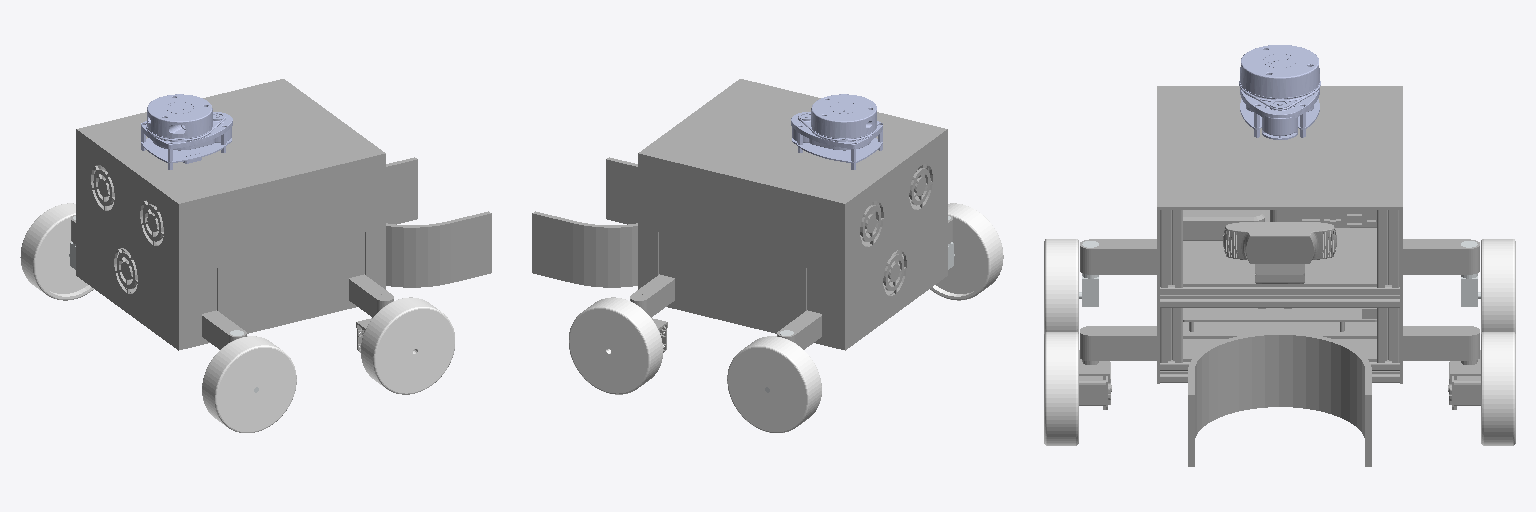
URDF robot description (cw7):
<?xml version="1.0" encoding="utf-8"?>
<!-- This URDF was automatically created by SolidWorks to URDF Exporter! Originally created by [author] ([email redacted]) 
     Commit Version: 1.5.1-0-g916b5db  Build Version: 1.5.7152.31018
     For more information, please see http://wiki.ros.org/sw_urdf_exporter -->
<robot
  name="cw7">
  <link
    name="Base">
    <inertial>
      <origin
        xyz="-0.143651511857374 0.108895459398045 0.0812772540077323"
        rpy="0 0 0" />
      <mass
        value="5.26325366509137" />
      <inertia
        ixx="0.0148943720049105"
        ixy="-1.47975198134271E-06"
        ixz="-8.31653282119483E-06"
        iyy="0.0219350627580291"
        iyz="-4.01751561824985E-06"
        izz="0.0231941861217009" />
    </inertial>
    <visual>
      <origin
        xyz="0 0 0"
        rpy="0 0 0" />
      <geometry>
        <mesh
          filename="package://cw7/meshes/Base.STL" />
      </geometry>
      <material
        name="">
        <color
          rgba="0.752941176470588 0.752941176470588 0.752941176470588 1" />
      </material>
    </visual>
    <collision>
      <origin
        xyz="0 0 0"
        rpy="0 0 0" />
      <geometry>
        <mesh
          filename="package://cw7/meshes/Base.STL" />
      </geometry>
    </collision>
  </link>
  <link
    name="LFS">
    <inertial>
      <origin
        xyz="0.0666875210853818 0.00364278355332759 -0.0648369138582873"
        rpy="0 0 0" />
      <mass
        value="0.26437001106024" />
      <inertia
        ixx="3.20746276473134E-05"
        ixy="-1.44118283521323E-07"
        ixz="-6.30853084344804E-08"
        iyy="6.22704126338856E-05"
        iyz="-2.01894652764193E-07"
        izz="6.28519936954001E-05" />
    </inertial>
    <visual>
      <origin
        xyz="0 0 0"
        rpy="0 0 0" />
      <geometry>
        <mesh
          filename="package://cw7/meshes/LFS.STL" />
      </geometry>
      <material
        name="">
        <color
          rgba="0.752941176470588 0.752941176470588 0.752941176470588 1" />
      </material>
    </visual>
    <collision>
      <origin
        xyz="0 0 0"
        rpy="0 0 0" />
      <geometry>
        <mesh
          filename="package://cw7/meshes/LFS.STL" />
      </geometry>
    </collision>
  </link>
  <joint
    name="LFS"
    type="prismatic">
    <origin
      xyz="-0.050812 0.31516 -0.047207"
      rpy="2.834 0 -1.5708" />
    <parent
      link="Base" />
    <child
      link="LFS" />
    <axis
      xyz="0 0.3028 -0.95305" />
    <limit
      lower="0"
      upper="0"
      effort="0"
      velocity="0" />
  </joint>
  <link
    name="LFW">
    <inertial>
      <origin
        xyz="-0.012315724574073 -1.38777878078145E-17 0"
        rpy="0 0 0" />
      <mass
        value="0.193585420779862" />
      <inertia
        ixx="0.000253081141332254"
        ixy="-5.88092833198904E-37"
        ixz="5.1845054750851E-21"
        iyy="0.000136818598566517"
        iyz="7.17557753438369E-37"
        izz="0.000136818598566517" />
    </inertial>
    <visual>
      <origin
        xyz="0 0 0"
        rpy="0 0 0" />
      <geometry>
        <mesh
          filename="package://cw7/meshes/LFW.STL" />
      </geometry>
      <material
        name="">
        <color
          rgba="1 1 1 1" />
      </material>
    </visual>
    <collision>
      <origin
        xyz="0 0 0"
        rpy="0 0 0" />
      <geometry>
        <mesh
          filename="package://cw7/meshes/LFW.STL" />
      </geometry>
    </collision>
  </link>
  <joint
    name="LFW"
    type="continuous">
    <origin
      xyz="0.00041099 -0.018219 -0.039786"
      rpy="-1.8784 0 3.1416" />
    <parent
      link="LFS" />
    <child
      link="LFW" />
    <axis
      xyz="1 0 0" />
    <limit
      effort="3.1"
      velocity="7" />
  </joint>
  <link
    name="RFS">
    <inertial>
      <origin
        xyz="0.0724473276378504 -0.00242306558271344 -0.0667549990091164"
        rpy="0 0 0" />
      <mass
        value="0.26437001106024" />
      <inertia
        ixx="3.20746276473134E-05"
        ixy="1.4411828352133E-07"
        ixz="6.30853084344786E-08"
        iyy="6.22704126338856E-05"
        iyz="-2.01894652764197E-07"
        izz="6.28519936954002E-05" />
    </inertial>
    <visual>
      <origin
        xyz="0 0 0"
        rpy="0 0 0" />
      <geometry>
        <mesh
          filename="package://cw7/meshes/RFS.STL" />
      </geometry>
      <material
        name="">
        <color
          rgba="0.752941176470588 0.752941176470588 0.752941176470588 1" />
      </material>
    </visual>
    <collision>
      <origin
        xyz="0 0 0"
        rpy="0 0 0" />
      <geometry>
        <mesh
          filename="package://cw7/meshes/RFS.STL" />
      </geometry>
    </collision>
  </link>
  <joint
    name="RFS"
    type="prismatic">
    <origin
      xyz="-0.012128 -0.10492 -0.047207"
      rpy="2.834 0 1.5708" />
    <parent
      link="Base" />
    <child
      link="RFS" />
    <axis
      xyz="0 0.3028 -0.95305" />
    <limit
      lower="0"
      upper="0"
      effort="0"
      velocity="0" />
  </joint>
  <link
    name="RFW">
    <inertial>
      <origin
        xyz="-0.012315724574073 5.55111512312578E-17 2.77555756156289E-17"
        rpy="0 0 0" />
      <mass
        value="0.193585420779862" />
      <inertia
        ixx="0.000253081141332254"
        ixy="-9.44297928840748E-22"
        ixz="9.68305644339428E-21"
        iyy="0.000136818598566517"
        iyz="1.01643953670516E-20"
        izz="0.000136818598566517" />
    </inertial>
    <visual>
      <origin
        xyz="0 0 0"
        rpy="0 0 0" />
      <geometry>
        <mesh
          filename="package://cw7/meshes/RFW.STL" />
      </geometry>
      <material
        name="">
        <color
          rgba="1 1 1 1" />
      </material>
    </visual>
    <collision>
      <origin
        xyz="0 0 0"
        rpy="0 0 0" />
      <geometry>
        <mesh
          filename="package://cw7/meshes/RFW.STL" />
      </geometry>
    </collision>
  </link>
  <joint
    name="RFW"
    type="continuous">
    <origin
      xyz="0.0061708 0.00097405 -0.03369"
      rpy="-0.69943 0 3.1416" />
    <parent
      link="RFS" />
    <child
      link="RFW" />
    <axis
      xyz="1 0 0" />
    <limit
      effort="3.1"
      velocity="7" />
  </joint>
  <link
    name="LBS">
    <inertial>
      <origin
        xyz="0.0754022136877307 -0.00953574862501649 -0.0222014198592475"
        rpy="0 0 0" />
      <mass
        value="0.197009126147877" />
      <inertia
        ixx="1.68802738687172E-05"
        ixy="2.58331972448633E-21"
        ixz="1.18404326671451E-21"
        iyy="5.02184885667569E-05"
        iyz="1.0508875929185E-06"
        izz="4.72447473350486E-05" />
    </inertial>
    <visual>
      <origin
        xyz="0 0 0"
        rpy="0 0 0" />
      <geometry>
        <mesh
          filename="package://cw7/meshes/LBS.STL" />
      </geometry>
      <material
        name="">
        <color
          rgba="0.752941176470588 0.752941176470588 0.752941176470588 1" />
      </material>
    </visual>
    <collision>
      <origin
        xyz="0 0 0"
        rpy="0 0 0" />
      <geometry>
        <mesh
          filename="package://cw7/meshes/LBS.STL" />
      </geometry>
    </collision>
  </link>
  <joint
    name="LBS"
    type="prismatic">
    <origin
      xyz="-0.23081 0.31516 0.0042239"
      rpy="2.834 0 -1.5708" />
    <parent
      link="Base" />
    <child
      link="LBS" />
    <axis
      xyz="0 0.3028 -0.95305" />
    <limit
      lower="0"
      upper="0"
      effort="0"
      velocity="0" />
  </joint>
  <link
    name="LBC">
    <inertial>
      <origin
        xyz="0.00212675678752455 -0.00125107346378663 -2.77555756156289E-17"
        rpy="0 0 0" />
      <mass
        value="0.0337925918529465" />
      <inertia
        ixx="9.9077845929407E-06"
        ixy="1.2779398016802E-06"
        ixz="4.3277047727605E-22"
        iyy="2.88462343109062E-06"
        iyz="2.46718102352452E-21"
        izz="1.17553584577796E-05" />
    </inertial>
    <visual>
      <origin
        xyz="0 0 0"
        rpy="0 0 0" />
      <geometry>
        <mesh
          filename="package://cw7/meshes/LBC.STL" />
      </geometry>
      <material
        name="">
        <color
          rgba="0.898039215686275 0.917647058823529 0.929411764705882 1" />
      </material>
    </visual>
    <collision>
      <origin
        xyz="0 0 0"
        rpy="0 0 0" />
      <geometry>
        <mesh
          filename="package://cw7/meshes/LBC.STL" />
      </geometry>
    </collision>
  </link>
  <joint
    name="LBC"
    type="continuous">
    <origin
      xyz="0.0411609911350767 -0.0150684419408276 -0.00478749419309598"
      rpy="-1.87842660467749 0 3.14159265358979" />
    <parent
      link="LBS" />
    <child
      link="LBC" />
    <axis
      xyz="0 1 0" />
  </joint>
  <link
    name="LBW">
    <inertial>
      <origin
        xyz="0.017684275425927 0 0"
        rpy="0 0 0" />
      <mass
        value="0.193585420779862" />
      <inertia
        ixx="0.000253081141332254"
        ixy="-5.88092833198904E-37"
        ixz="5.1845054750851E-21"
        iyy="0.000136818598566517"
        iyz="7.17557753438369E-37"
        izz="0.000136818598566517" />
    </inertial>
    <visual>
      <origin
        xyz="0 0 0"
        rpy="0 0 0" />
      <geometry>
        <mesh
          filename="package://cw7/meshes/LBW.STL" />
      </geometry>
      <material
        name="">
        <color
          rgba="1 1 1 1" />
      </material>
    </visual>
    <collision>
      <origin
        xyz="0 0 0"
        rpy="0 0 0" />
      <geometry>
        <mesh
          filename="package://cw7/meshes/LBW.STL" />
      </geometry>
    </collision>
  </link>
  <joint
    name="LBW"
    type="continuous">
    <origin
      xyz="0.01075 -0.019033 0"
      rpy="0 0 0" />
    <parent
      link="LBC" />
    <child
      link="LBW" />
    <axis
      xyz="1 0 0" />
    <limit
      effort="3.1"
      velocity="7" />
  </joint>
  <link
    name="RBS">
    <inertial>
      <origin
        xyz="0.0754022136877307 -0.00953574862501652 -0.0222014198592475"
        rpy="0 0 0" />
      <mass
        value="0.197009126147877" />
      <inertia
        ixx="1.68802738687172E-05"
        ixy="-2.41251679006337E-21"
        ixz="-1.24044386020506E-21"
        iyy="5.02184885667569E-05"
        iyz="1.05088759291849E-06"
        izz="4.72447473350486E-05" />
    </inertial>
    <visual>
      <origin
        xyz="0 0 0"
        rpy="0 0 0" />
      <geometry>
        <mesh
          filename="package://cw7/meshes/RBS.STL" />
      </geometry>
      <material
        name="">
        <color
          rgba="0.752941176470588 0.752941176470588 0.752941176470588 1" />
      </material>
    </visual>
    <collision>
      <origin
        xyz="0 0 0"
        rpy="0 0 0" />
      <geometry>
        <mesh
          filename="package://cw7/meshes/RBS.STL" />
      </geometry>
    </collision>
  </link>
  <joint
    name="RBS"
    type="prismatic">
    <origin
      xyz="-0.19919 -0.099161 0.0042239"
      rpy="2.834 0 1.5708" />
    <parent
      link="Base" />
    <child
      link="RBS" />
    <axis
      xyz="0 0.3028 -0.95305" />
    <limit
      lower="0"
      upper="0"
      effort="0"
      velocity="0" />
  </joint>
  <link
    name="RBC">
    <inertial>
      <origin
        xyz="0.00212675678752453 -0.00125107346378658 0"
        rpy="0 0 0" />
      <mass
        value="0.0337925918529465" />
      <inertia
        ixx="9.90778459294068E-06"
        ixy="1.2779398016802E-06"
        ixz="6.20283035144575E-22"
        iyy="2.88462343109061E-06"
        iyz="2.59467414944555E-21"
        izz="1.17553584577795E-05" />
    </inertial>
    <visual>
      <origin
        xyz="0 0 0"
        rpy="0 0 0" />
      <geometry>
        <mesh
          filename="package://cw7/meshes/RBC.STL" />
      </geometry>
      <material
        name="">
        <color
          rgba="0.898039215686275 0.917647058823529 0.929411764705882 1" />
      </material>
    </visual>
    <collision>
      <origin
        xyz="0 0 0"
        rpy="0 0 0" />
      <geometry>
        <mesh
          filename="package://cw7/meshes/RBC.STL" />
      </geometry>
    </collision>
  </link>
  <joint
    name="RBC"
    type="continuous">
    <origin
      xyz="0.041161 -0.015068 -0.0047875"
      rpy="-1.8784 0 3.1416" />
    <parent
      link="RBS" />
    <child
      link="RBC" />
    <axis
      xyz="0 1 0" />
  </joint>
  <link
    name="RBW">
    <inertial>
      <origin
        xyz="0.017684275425927 2.77555756156289E-17 0"
        rpy="0 0 0" />
      <mass
        value="0.193585420779862" />
      <inertia
        ixx="0.000253081141332253"
        ixy="-1.77826406212573E-20"
        ixz="1.08676942117992E-20"
        iyy="0.000136818598566517"
        iyz="8.470329472543E-21"
        izz="0.000136818598566517" />
    </inertial>
    <visual>
      <origin
        xyz="0 0 0"
        rpy="0 0 0" />
      <geometry>
        <mesh
          filename="package://cw7/meshes/RBW.STL" />
      </geometry>
      <material
        name="">
        <color
          rgba="1 1 1 1" />
      </material>
    </visual>
    <collision>
      <origin
        xyz="0 0 0"
        rpy="0 0 0" />
      <geometry>
        <mesh
          filename="package://cw7/meshes/RBW.STL" />
      </geometry>
    </collision>
  </link>
  <joint
    name="RBW"
    type="continuous">
    <origin
      xyz="0.01075 -0.019033 0"
      rpy="1.7808 0 0" />
    <parent
      link="RBC" />
    <child
      link="RBW" />
    <axis
      xyz="1 0 0" />
    <limit
      effort="3.1"
      velocity="7" />
  </joint>
  <link
    name="Lidar">
    <inertial>
      <origin
        xyz="-0.0784930223787603 -0.744427430950029 -0.133449677865896"
        rpy="0 0 0" />
      <mass
        value="0.0730845704999828" />
      <inertia
        ixx="1.95808756791187E-05"
        ixy="4.28391210140712E-07"
        ixz="-1.03933581663682E-07"
        iyy="4.14184516311443E-05"
        iyz="-9.42671864204436E-09"
        izz="2.41250079960291E-05" />
    </inertial>
    <visual>
      <origin
        xyz="0 0 0"
        rpy="0 0 0" />
      <geometry>
        <mesh
          filename="package://cw7/meshes/Lidar.STL" />
      </geometry>
      <material
        name="">
        <color
          rgba="0.792156862745098 0.819607843137255 0.933333333333333 1" />
      </material>
    </visual>
    <collision>
      <origin
        xyz="0 0 0"
        rpy="0 0 0" />
      <geometry>
        <mesh
          filename="package://cw7/meshes/Lidar.STL" />
      </geometry>
    </collision>
  </link>
  <joint
    name="Lidar"
    type="fixed">
    <origin
      xyz="-0.098561 0.24092 -0.5487"
      rpy="-1.5708 0 0" />
    <parent
      link="Base" />
    <child
      link="Lidar" />
    <axis
      xyz="0 0 0" />
  </joint>
  <link
    name="Cam">
    <inertial>
      <origin
        xyz="-0.0238863589328312 -0.0255006330045158 0.0933352730175545"
        rpy="0 0 0" />
      <mass
        value="0.0842240111641082" />
      <inertia
        ixx="1.39666927752748E-05"
        ixy="-8.82405655950129E-10"
        ixz="-1.01133319009102E-09"
        iyy="3.67256443822933E-05"
        iyz="-1.51507686967881E-06"
        izz="3.01150328860415E-05" />
    </inertial>
    <visual>
      <origin
        xyz="0 0 0"
        rpy="0 0 0" />
      <geometry>
        <mesh
          filename="package://cw7/meshes/Cam.STL" />
      </geometry>
      <material
        name="">
        <color
          rgba="0.752941176470588 0.752941176470588 0.752941176470588 1" />
      </material>
    </visual>
    <collision>
      <origin
        xyz="0 0 0"
        rpy="0 0 0" />
      <geometry>
        <mesh
          filename="package://cw7/meshes/Cam.STL" />
      </geometry>
    </collision>
  </link>
  <joint
    name="Cam"
    type="fixed">
    <origin
      xyz="-0.099325 0.13189 0.16474"
      rpy="1.7188 0 1.5708" />
    <parent
      link="Base" />
    <child
      link="Cam" />
    <axis
      xyz="0 0 0" />
  </joint>
</robot>

--- What the picture shows (computed from the rendered views, not written in the file) ---
The picture shows the robot from 3 angles, left to right: view 1: azimuth 30°, elevation 25°; view 2: azimuth 150°, elevation 25°; view 3: azimuth 270°, elevation 25°; orthographic projection.
Robot: cw7 — 13 links, 12 joints (6 continuous, 4 prismatic, 2 fixed); root link Base; default pose: every joint at zero.
Visible links, largest first — view 1: Base, RFW, RBW, Lidar, LBW, RFS, RBS; view 2: Base, LFW, LBW, Lidar, RBW, LFS, LBS; view 3: Base, Lidar, Cam, LFS, RFS, LFW, RFW, LBW, RBW, LBS, RBS, LBC (+1 smaller).
Link boxes in pixels (left/top/right/bottom): Base: left=76, top=79, right=491, bottom=350; RFW: left=361, top=297, right=454, bottom=394; RBW: left=202, top=336, right=296, bottom=432; Lidar: left=141, top=94, right=232, bottom=169; LBW: left=20, top=203, right=93, bottom=300; RFS: left=349, top=274, right=393, bottom=352; RBS: left=202, top=310, right=246, bottom=349; Base: left=532, top=79, right=947, bottom=350; LFW: left=569, top=297, right=662, bottom=394; LBW: left=727, top=336, right=821, bottom=432; Lidar: left=791, top=94, right=882, bottom=169; RBW: left=930, top=203, right=1003, bottom=300; LFS: left=630, top=274, right=674, bottom=352; LBS: left=777, top=310, right=821, bottom=349; Base: left=1157, top=86, right=1402, bottom=466; Lidar: left=1239, top=45, right=1320, bottom=139; Cam: left=1223, top=222, right=1336, bottom=283; LFS: left=1403, top=326, right=1480, bottom=409; RFS: left=1079, top=326, right=1156, bottom=409; LFW: left=1481, top=332, right=1515, bottom=445; RFW: left=1044, top=332, right=1078, bottom=445; LBW: left=1481, top=239, right=1515, bottom=333; RBW: left=1044, top=239, right=1078, bottom=333; LBS: left=1403, top=239, right=1479, bottom=274; RBS: left=1080, top=239, right=1156, bottom=274; LBC: left=1461, top=241, right=1480, bottom=306.
Bounding box of the posed robot: 0.4093 × 0.4135 × 0.2893 m (x, y, z).
13 mesh visuals loaded from 13 distinct referenced files (13 binary STL).